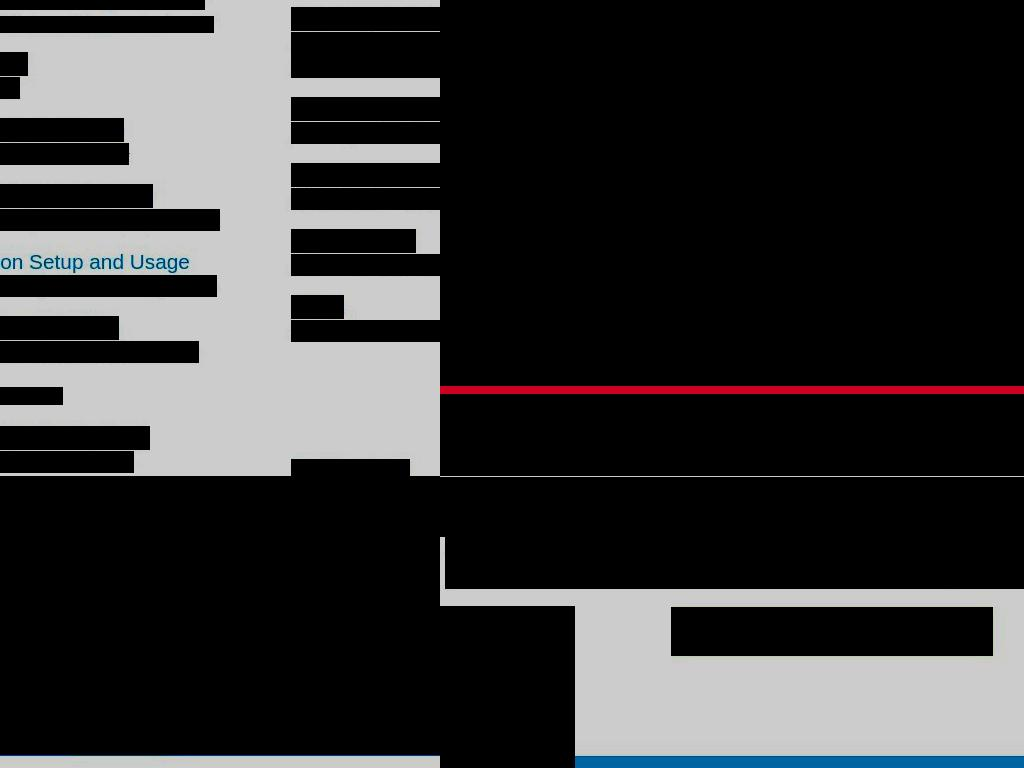button: (671, 607, 993, 656), (261, 593, 440, 608)
heading: (440, 477, 1024, 537), (445, 529, 1024, 589)
image: (440, 0, 1024, 386), (0, 476, 440, 755), (440, 394, 1024, 476), (440, 606, 575, 768), (938, 64, 1024, 103)
link: (0, 250, 190, 274), (0, 184, 153, 208), (0, 426, 150, 450), (291, 7, 440, 31), (291, 97, 440, 121), (291, 163, 440, 187), (291, 229, 416, 253), (0, 118, 124, 142), (0, 316, 119, 340), (0, 16, 153, 33), (0, 0, 205, 10), (291, 459, 410, 476), (291, 295, 344, 319), (955, 103, 1016, 119), (0, 52, 28, 76), (945, 11, 980, 23)
text: (261, 568, 440, 628), (291, 32, 440, 78), (261, 502, 440, 538), (0, 209, 220, 231), (0, 275, 217, 297), (261, 476, 440, 502), (0, 341, 199, 363), (291, 122, 440, 144), (291, 188, 440, 210), (291, 254, 440, 276), (291, 320, 440, 342), (0, 451, 134, 473), (0, 143, 129, 165), (0, 387, 63, 405), (152, 16, 214, 33), (0, 77, 20, 99)
